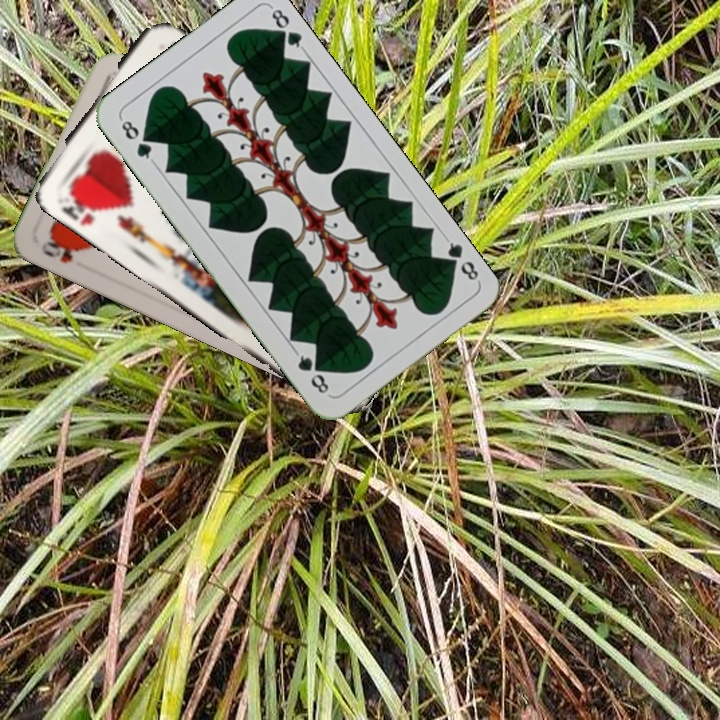G8: (439, 233, 482, 284), (116, 114, 157, 165)
HK: (57, 186, 104, 228)
HO: (37, 233, 82, 266)
